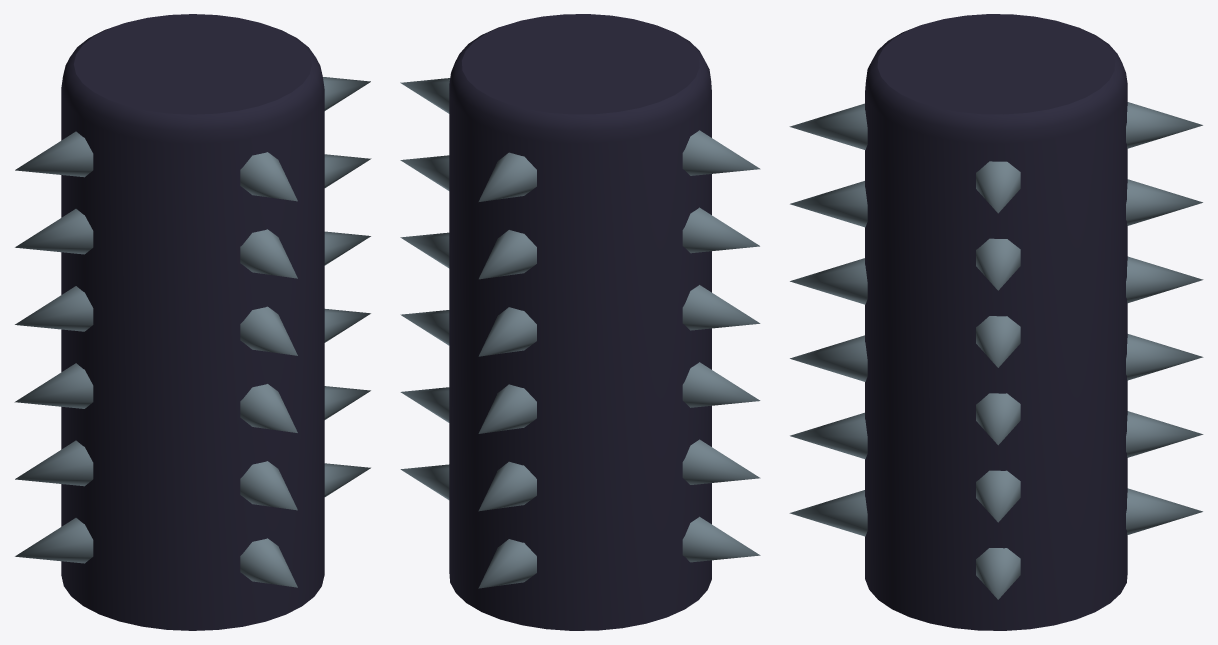
File: CylinderObstacle.fbx
The picture shows the model from 3 angles, left to right: view 1: azimuth 30°, elevation 25°; view 2: azimuth 150°, elevation 25°; view 3: azimuth 270°, elevation 25°; orthographic projection.
Parts seen in each view (by area): view 1: CylinderObstacle; view 2: CylinderObstacle; view 3: CylinderObstacle.
Boxes of the visible parts, x1,y1,x2,y2 form: CylinderObstacle: (14,14,371,630); CylinderObstacle: (400,14,760,630); CylinderObstacle: (789,14,1203,630).
Bounding box in the file's own units: 2.01 × 2.73 × 2.01.
